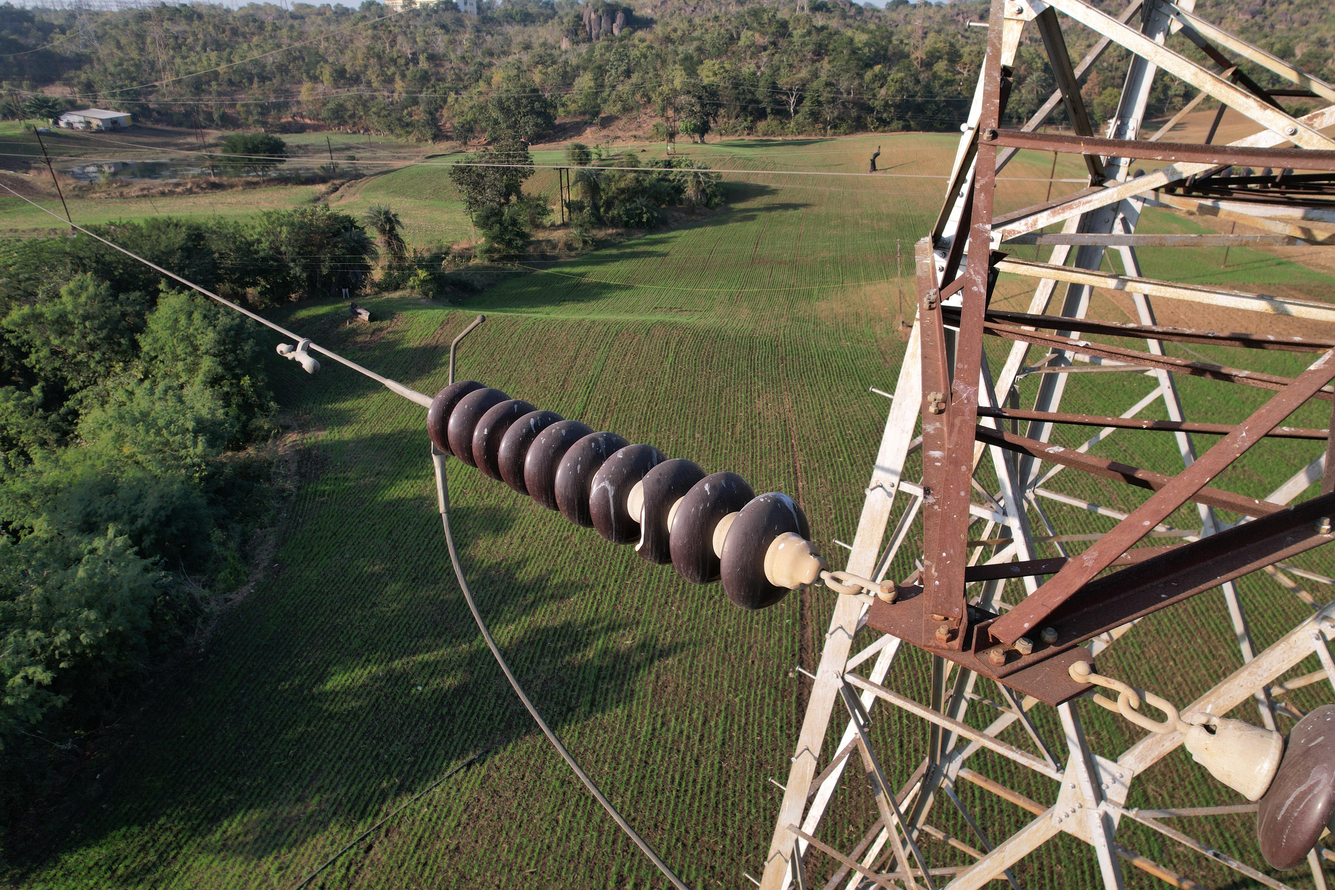broken_insulator: (624, 458, 686, 567)
